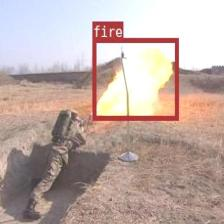fire: (92, 38, 178, 119)
